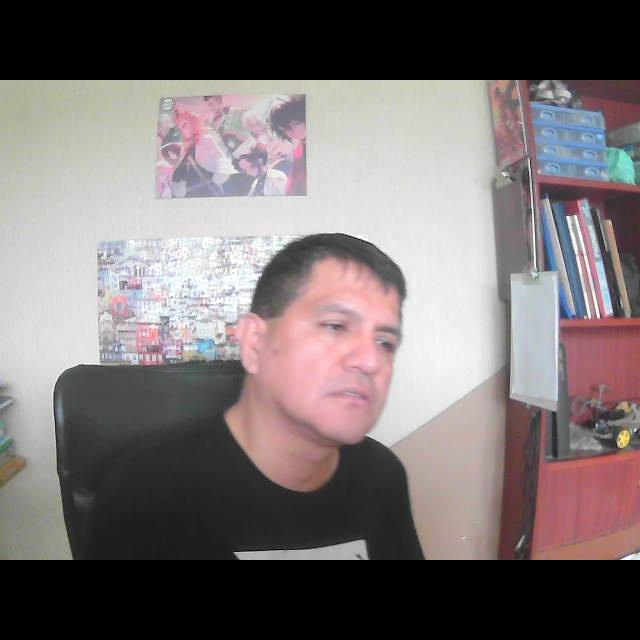cesar: (215, 217, 422, 476)
